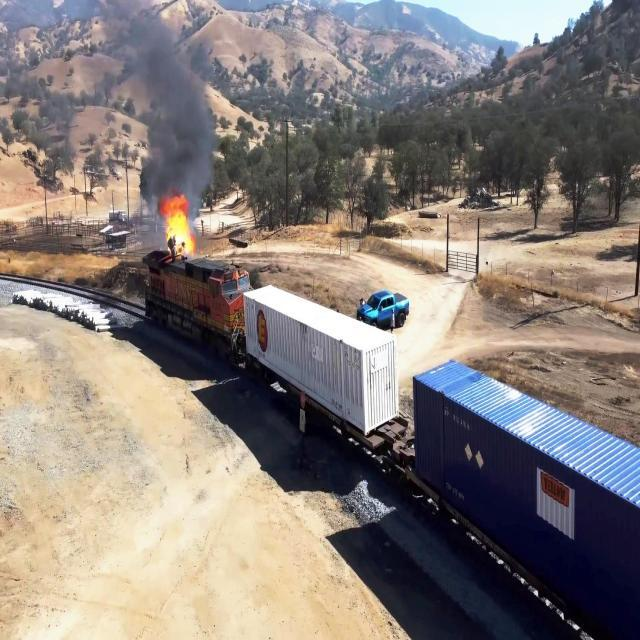Fire: (161, 198, 198, 268)
Smoke: (140, 19, 217, 175)
